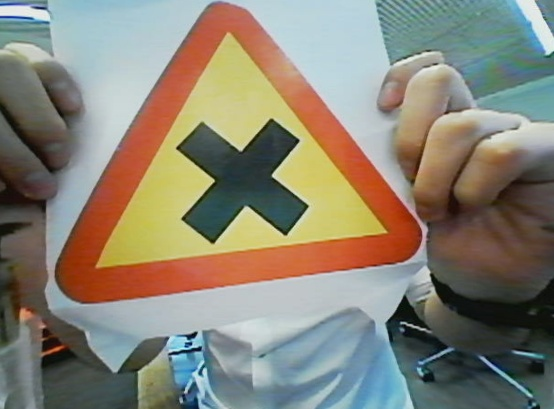junction: (45, 1, 426, 313)
